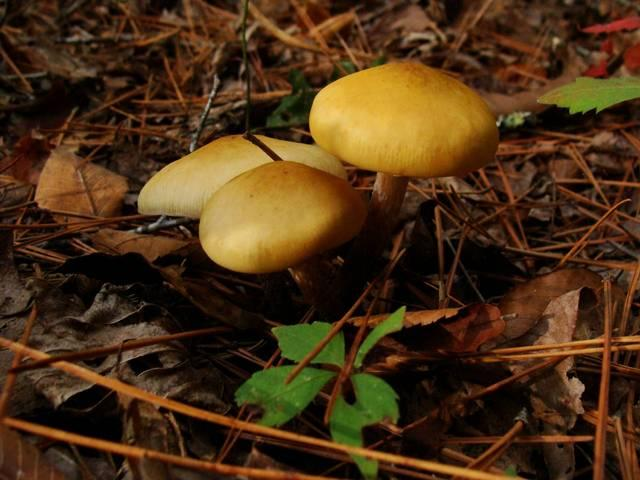Edible Mushroom: (307, 58, 500, 258), (197, 159, 367, 308), (136, 131, 347, 225)
